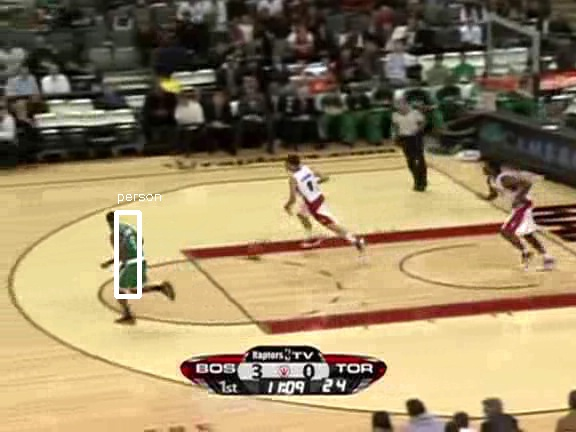person: (116, 213, 150, 294), (115, 213, 149, 294), (117, 213, 151, 294), (116, 212, 150, 293), (116, 214, 150, 295)
target_negative: (158, 16, 544, 193), (323, 146, 575, 318), (274, 293, 454, 327), (498, 347, 559, 398), (181, 294, 228, 313), (326, 395, 341, 410)
